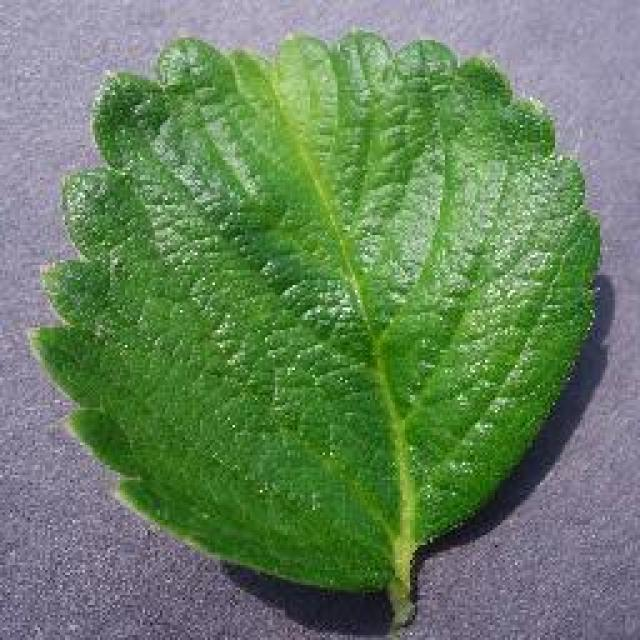Strawberry___healthy: (15, 5, 613, 640)
